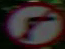Don't turn right: (8, 3, 56, 39)
